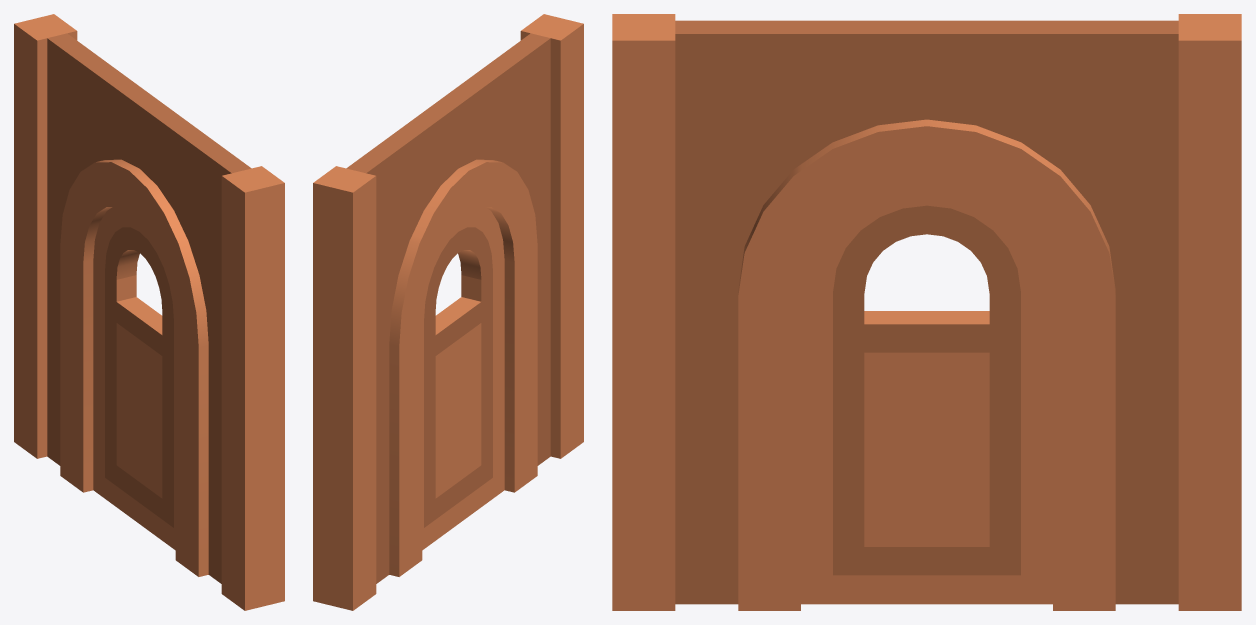
The model's file is wallWoodDoor.fbx.
3 renders of one model, left to right at view 1: azimuth 30°, elevation 25°; view 2: azimuth 150°, elevation 25°; view 3: azimuth 270°, elevation 25°, orthographic. The views are drawn at different scales.
Visible parts, largest first — view 1: wallWoodDoor, door; view 2: wallWoodDoor, door; view 3: wallWoodDoor, door.
Part boxes in pixels (<box>): wallWoodDoor: <box>14,14,284,610</box>; door: <box>93,207,175,550</box>; wallWoodDoor: <box>313,14,583,610</box>; door: <box>422,207,504,550</box>; wallWoodDoor: <box>612,14,1241,610</box>; door: <box>801,183,1052,604</box>.
Size of the model in its own units: 1 by 10 by 10.
